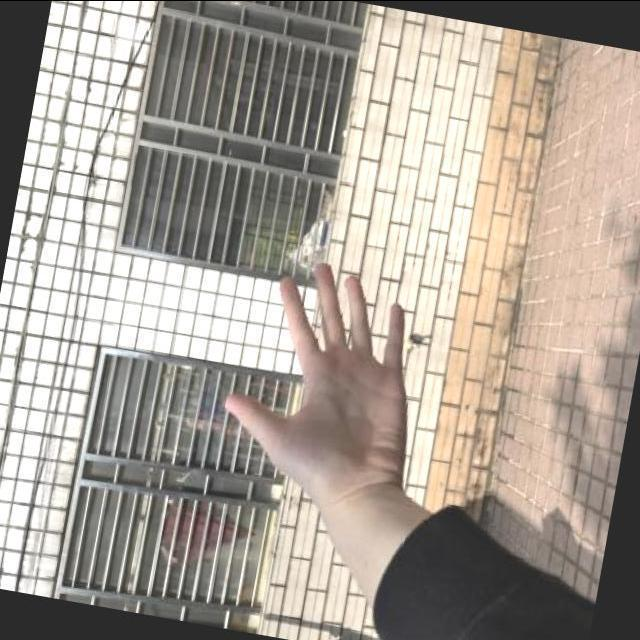hand: (197, 238, 448, 533)
